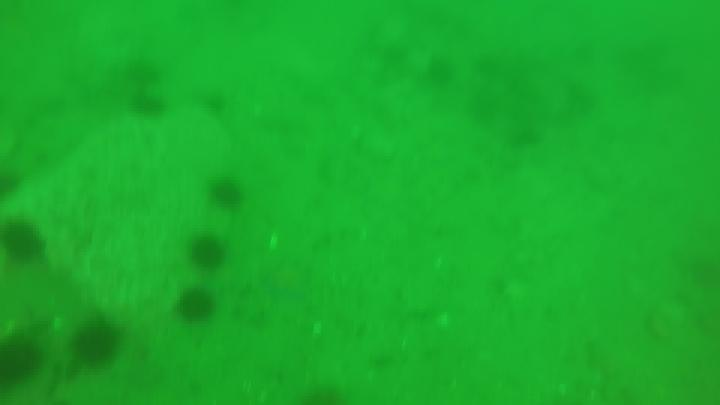echinus: (70, 317, 121, 367), (1, 338, 41, 391), (1, 220, 46, 263), (174, 286, 216, 323), (189, 237, 228, 271), (129, 92, 165, 116), (1, 162, 20, 204), (215, 179, 242, 206)
